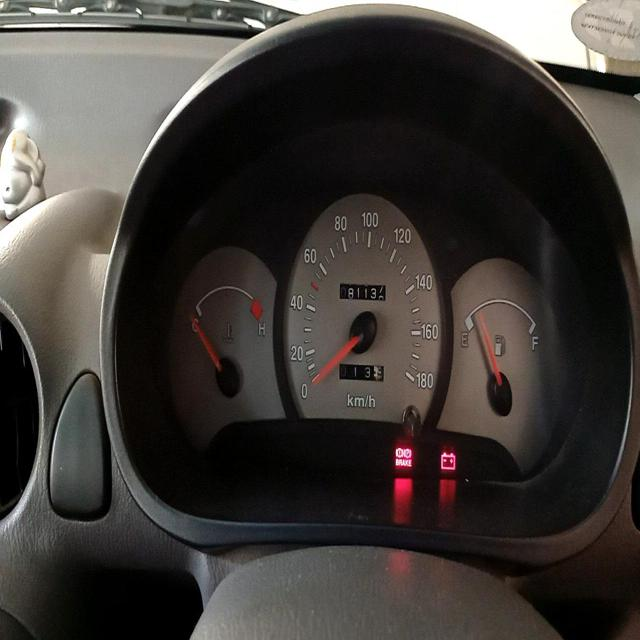odometer: (339, 283, 386, 301)
